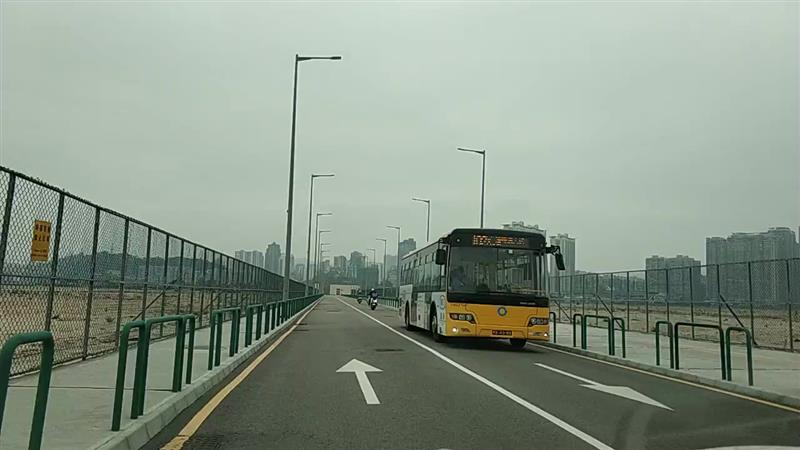bus: (396, 227, 567, 349)
motorcycle: (368, 286, 379, 311), (356, 288, 364, 304)
roadDown: (533, 360, 677, 413)
roadUp: (335, 355, 386, 405)
